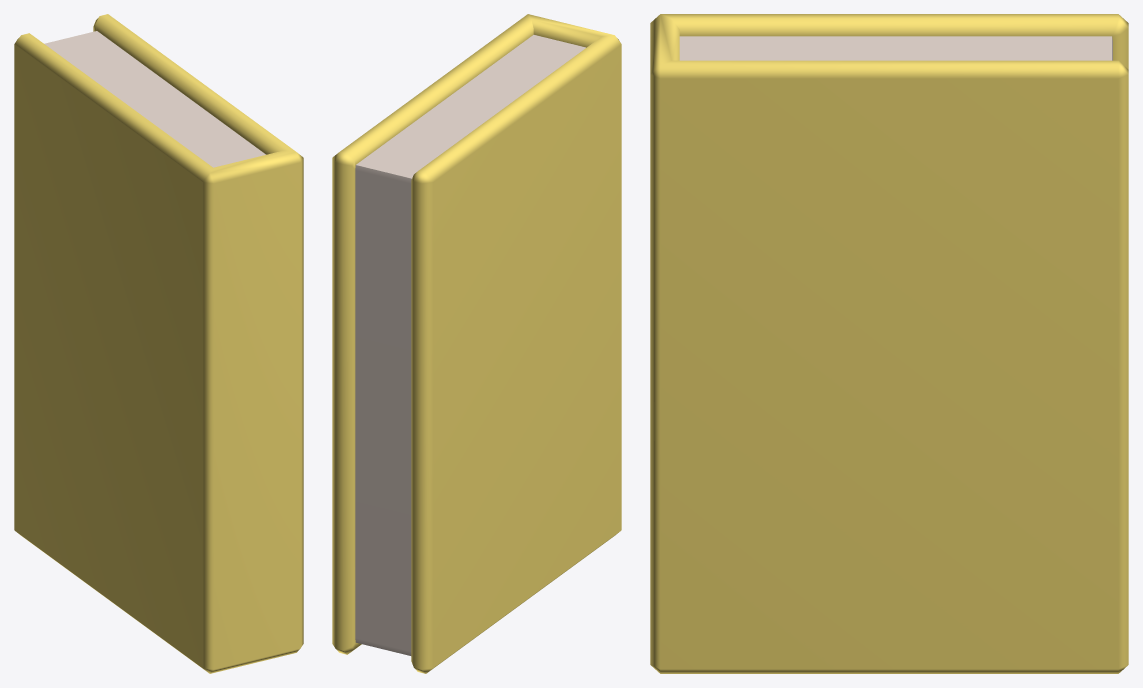
The model's file is Book_2.glb.
3 views of the same model, side by side, from view 1: azimuth 30°, elevation 25°; view 2: azimuth 150°, elevation 25°; view 3: azimuth 270°, elevation 25° (orthographic). The views are drawn at different scales.
Parts seen in each view (by area): view 1: Book_2; view 2: Book_2; view 3: Book_2.
Part boxes in pixels (bbox=[...]): Book_2: bbox=[14, 14, 303, 673]; Book_2: bbox=[332, 14, 621, 673]; Book_2: bbox=[650, 14, 1128, 673].
Bounding box in the file's own units: 0.0838 × 0.3971 × 0.2829.
Materials: 1 (1 with a texture image).
